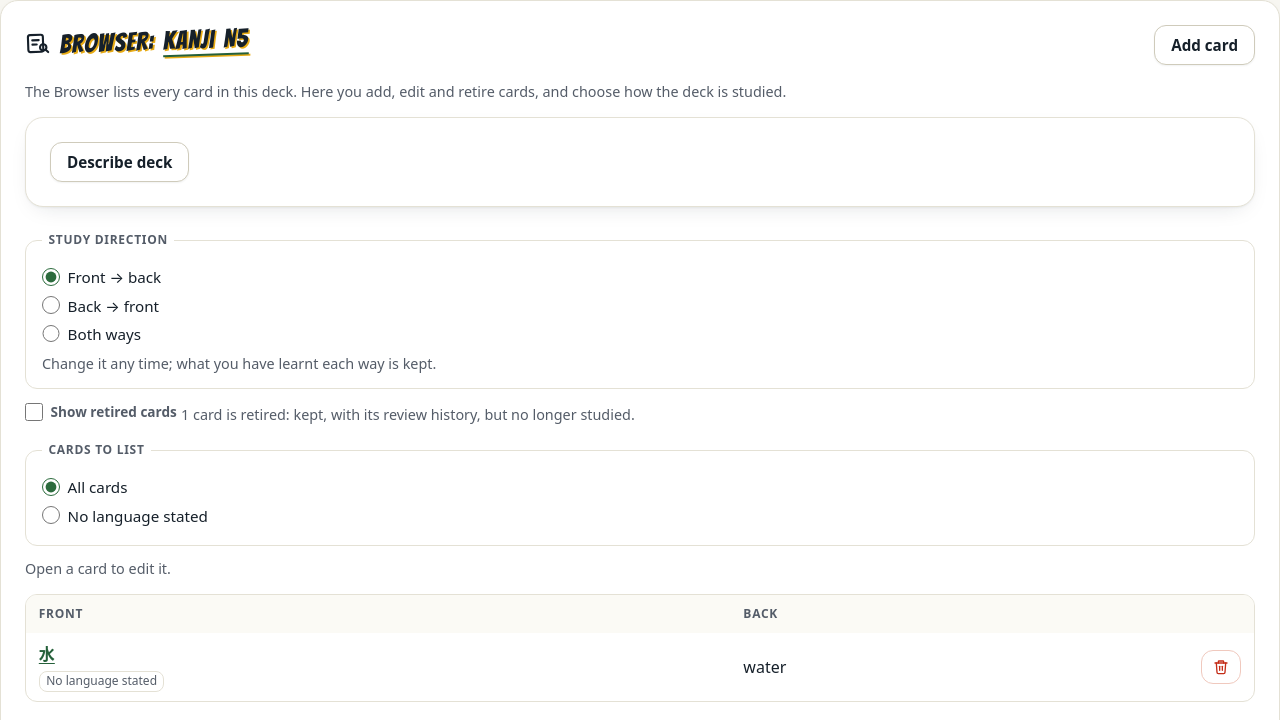
Test: BrowserScreen › hides retired cards until asked, then lists them marked
Expected: the text "火" is not shown
Click the checkbox labelled "Show retired cards". click: [34, 412]
box: [25,403,43,420]
(page scrolled)
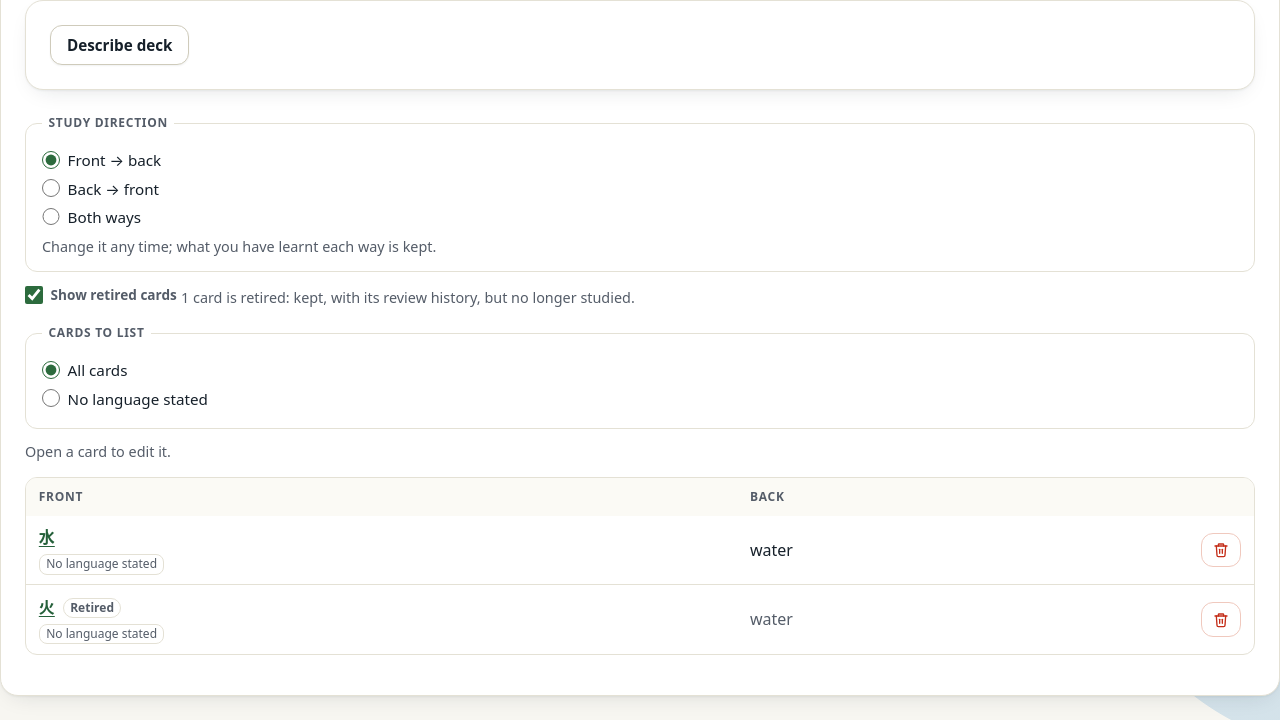
Expected: the link "火 Retired" is shown, [39,596,121,618]
